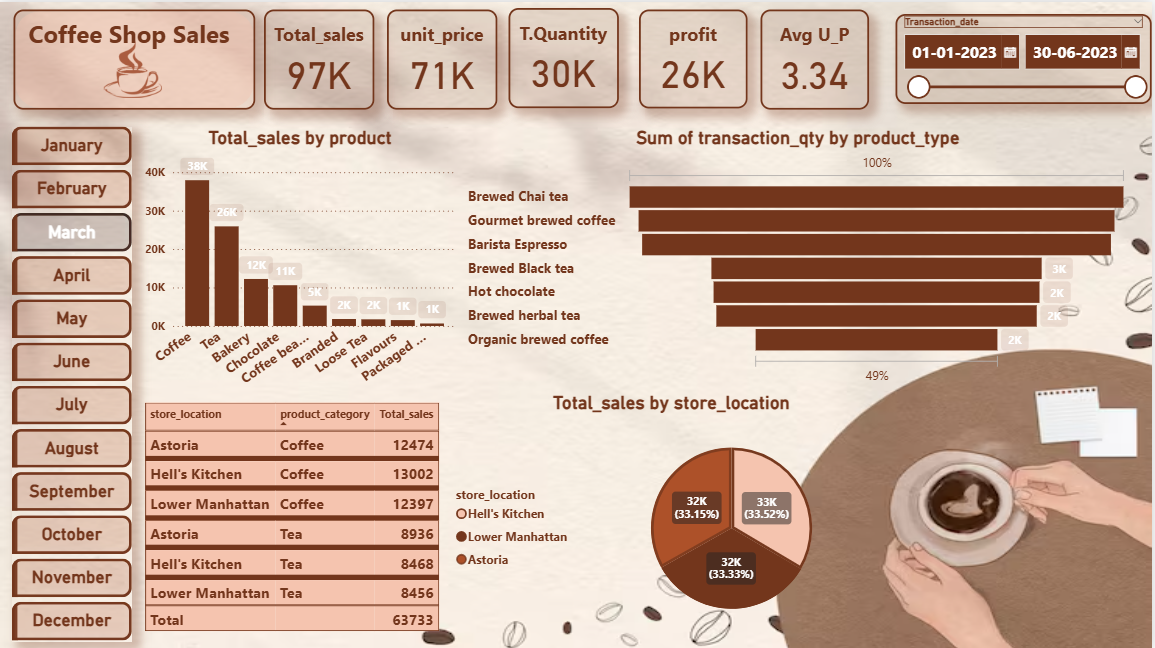

The page's visual inventory and layout, read from the dashboard file:
{"tool":"powerbi","page":{"name":"Page 1","canvas":[1280,720],"ordinal":0},"visuals":[{"type":"shape","box":[14.3,8,268.8,111.3],"z":0},{"type":"cardVisual","fields":{"Data":["Transactions.Total_sales"]},"box":[292.7,8,122.5,111.3],"z":1000},{"type":"cardVisual","fields":{"Data":["Transactions.Total Quantity"]},"box":[564.7,6.4,122.5,111.3],"z":2000},{"type":"cardVisual","fields":{"Data":["Transactions.Average Unit Price"]},"box":[844.6,8,120.9,111.3],"z":3000},{"type":"cardVisual","fields":{"Data":["Transactions.unitprice"]},"box":[429.5,8,122.5,111.3],"z":4000},{"type":"slicer","fields":{"Values":["Transactions.transaction_date"]},"box":[995.7,12.7,284.7,100.2],"z":5000},{"type":"advancedSlicerVisual","fields":{"Values":["Transactions.transaction_date.Variation.Date Hierarchy.Month"]},"box":[12.7,138.4,133.6,572.6],"z":6000},{"type":"clusteredColumnChart","fields":{"Y":["Transactions.Total_sales"],"Category":["Transactions.product_category"]},"box":[160,138.4,346.8,294.3],"z":7000},{"type":"pieChart","fields":{"Category":["Transactions.store_location"],"Y":["Transactions.Total_sales"]},"box":[507.4,432.6,478.8,273.6],"z":8000},{"type":"cardVisual","fields":{"Data":["Transactions.profit"]},"box":[709.4,8,120.9,109.8],"z":9000},{"type":"funnel","fields":{"Category":["Transactions.product_type"],"Y":["Sum(Transactions.transaction_qty)"]},"box":[520.1,138.4,733.3,286.3],"z":10000},{"type":"tableEx","fields":{"Values":["Transactions.store_location","Transactions.product_category","Transactions.Total_sales"]},"box":[160,445.4,332.4,260.9],"z":11000},{"type":"textbox","box":[31.8,15.9,233.8,46.1],"z":12000},{"type":"image","box":[109.8,36.6,74.8,76.3],"z":12001}]}

Visuals, with their boxes in screenshot pixels (x1, y1, x2, y2), scaled from the page's 1280x720 canvas onto the 1155x648 screenshot:
shape: pyautogui.locateOnScreen(13, 7, 255, 107)
cardVisual - Transactions.Total_sales: pyautogui.locateOnScreen(264, 7, 375, 107)
cardVisual - Transactions.Total Quantity: pyautogui.locateOnScreen(510, 6, 620, 106)
cardVisual - Transactions.Average Unit Price: pyautogui.locateOnScreen(762, 7, 871, 107)
cardVisual - Transactions.unitprice: pyautogui.locateOnScreen(388, 7, 498, 107)
slicer - Transactions.transaction_date: pyautogui.locateOnScreen(898, 11, 1154, 102)
advancedSlicerVisual - Transactions.transaction_date.Variation.Date Hierarchy.Month: pyautogui.locateOnScreen(11, 125, 132, 640)
clusteredColumnChart - Transactions.Total_sales x Transactions.product_category: pyautogui.locateOnScreen(144, 125, 457, 389)
pieChart - Transactions.store_location x Transactions.Total_sales: pyautogui.locateOnScreen(458, 389, 890, 636)
cardVisual - Transactions.profit: pyautogui.locateOnScreen(640, 7, 749, 106)
funnel - Transactions.product_type x Sum(Transactions.transaction_qty): pyautogui.locateOnScreen(469, 125, 1131, 382)
tableEx - Transactions.store_location x Transactions.product_category: pyautogui.locateOnScreen(144, 401, 444, 636)
textbox: pyautogui.locateOnScreen(29, 14, 240, 56)
image: pyautogui.locateOnScreen(99, 33, 167, 102)
